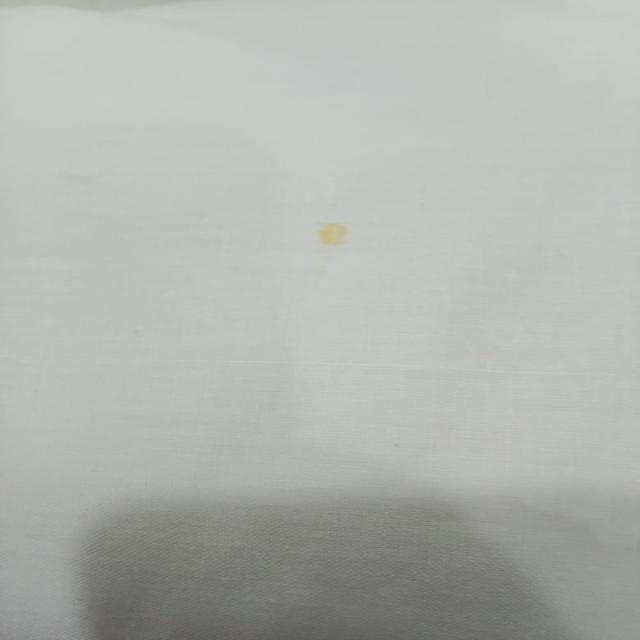stain: (302, 214, 372, 256)
